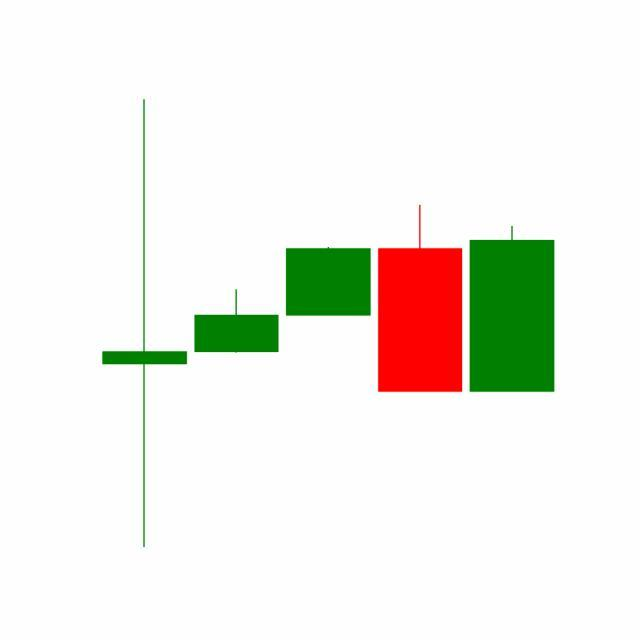Marubozu: (466, 224, 559, 393)
